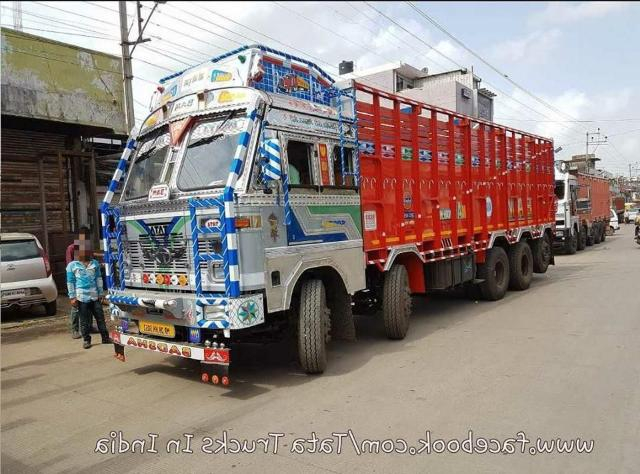car: (0, 227, 64, 323)
truck: (94, 32, 558, 389), (555, 164, 615, 257)
